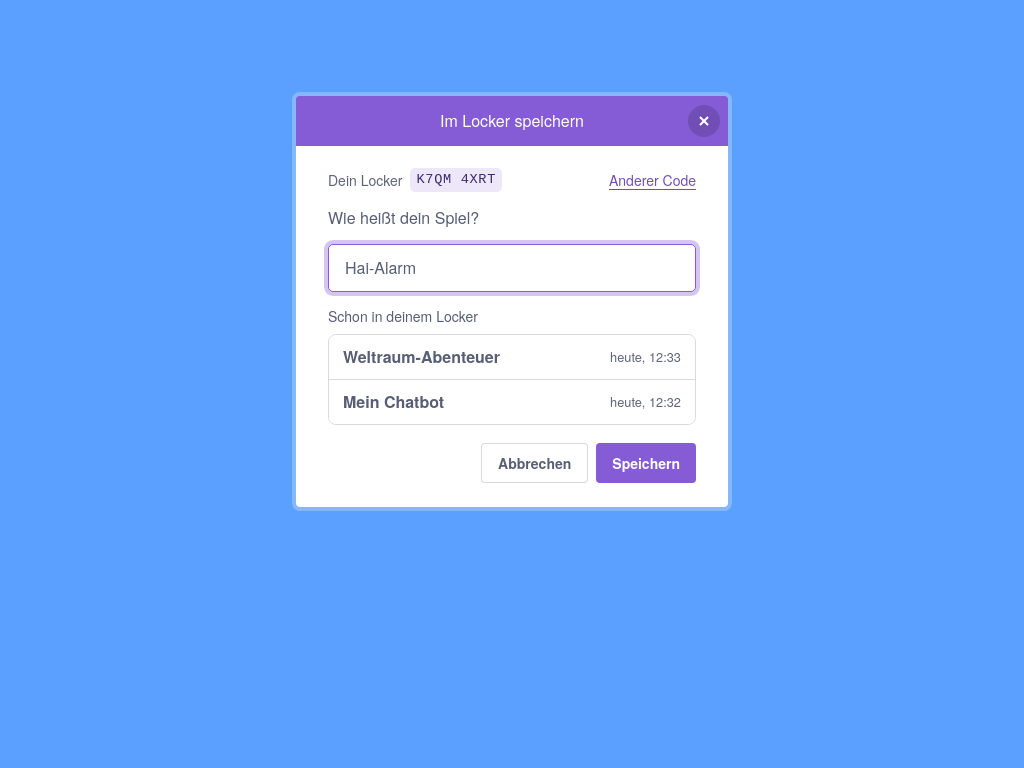
it: LockerDialog › an existing name warns, turns the button into "Ersetzen" and replaces that game
The width and height of the screenshot is (1024, 768).
Replace the text in the field labelled "Wie heißt dein Spiel?" with " weltraum-abenteuer " at coordinates (512, 268), box x1=328 y1=244 x2=696 y2=292
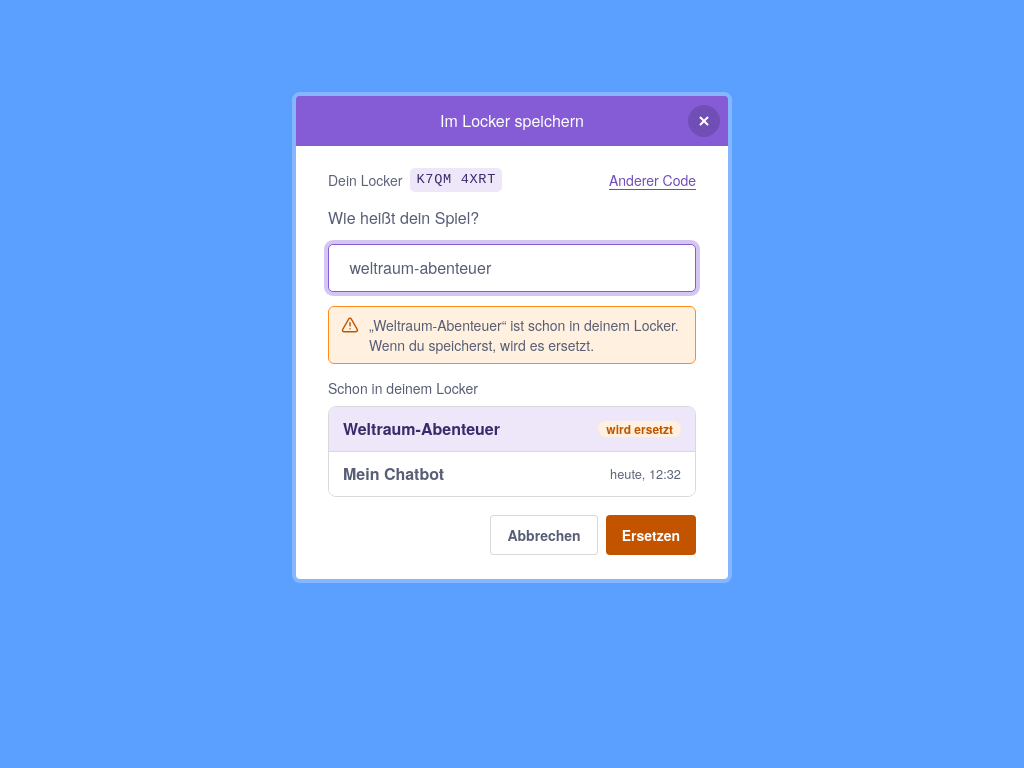
Result: the message shows "„Weltraum-Abenteuer“ ist schon in deinem Locker" at x1=328 y1=306 x2=696 y2=364
Click the button "Ersetzen" at coordinates (651, 535), box x1=606 y1=515 x2=696 y2=555
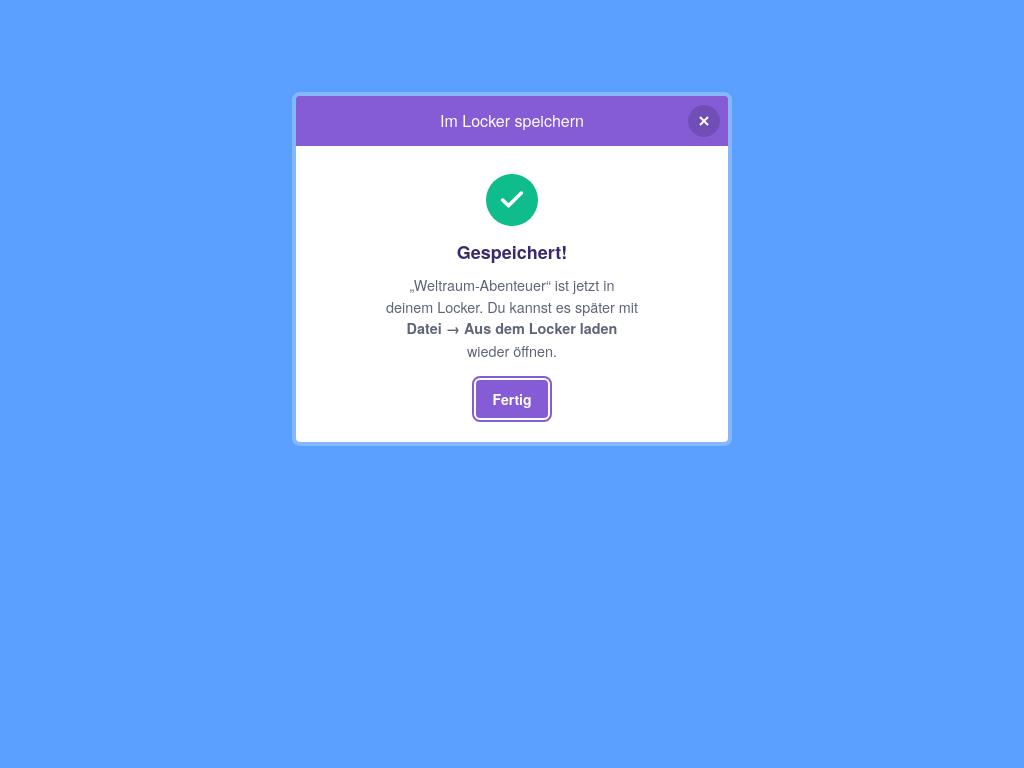
Result: the text "Gespeichert!" is shown at x1=457 y1=238 x2=567 y2=266
